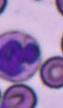N: (0, 31, 41, 82)
